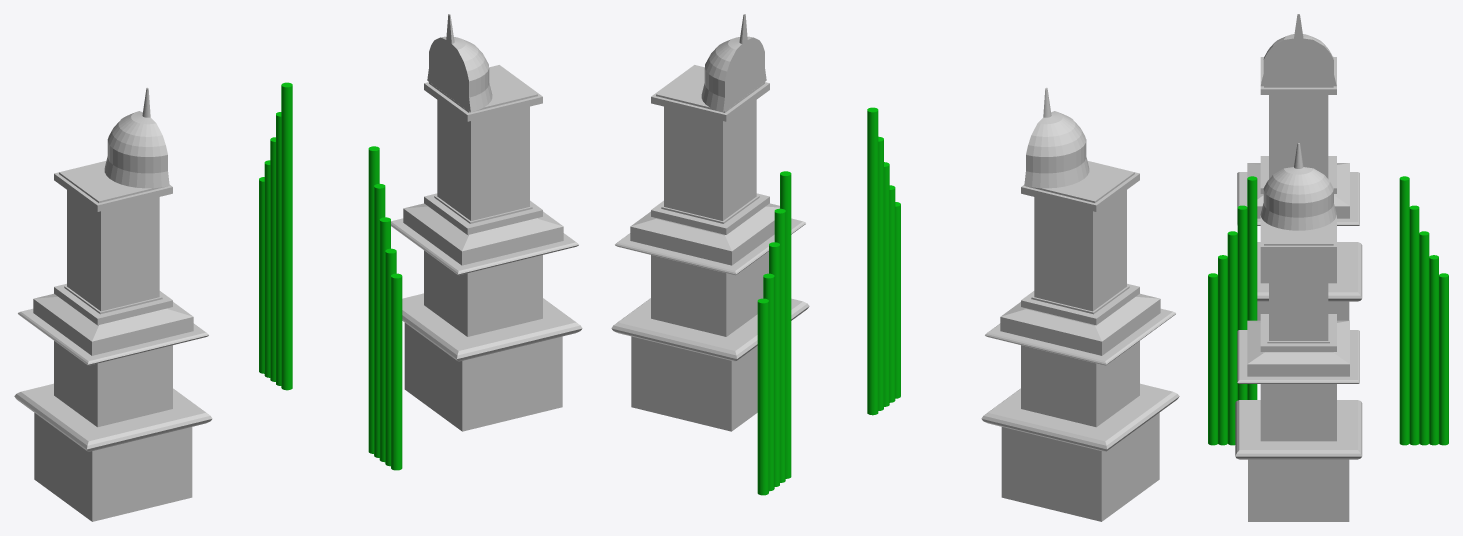
The model's file is gapura.fbx.
The picture shows the model from 3 angles, left to right: view 1: azimuth 30°, elevation 25°; view 2: azimuth 150°, elevation 25°; view 3: azimuth 270°, elevation 25°; orthographic projection. The views are drawn at different scales.
Parts seen in each view (by area): view 1: Cube.003, Cube.015, Cylinder.002, Cylinder.000; view 2: Cube.003, Cube.015, Cylinder.000, Cylinder.002; view 3: Cube.015, Cube.003, Cylinder.000, Cylinder.002.
Boxes of the visible parts, bbox=[...] form: Cube.003: bbox=[14, 87, 212, 521]; Cube.015: bbox=[391, 14, 582, 431]; Cylinder.002: bbox=[368, 146, 402, 470]; Cylinder.000: bbox=[259, 82, 292, 390]; Cube.003: bbox=[981, 87, 1179, 521]; Cube.015: bbox=[611, 14, 809, 431]; Cylinder.000: bbox=[757, 171, 791, 495]; Cylinder.002: bbox=[867, 107, 900, 415]; Cube.015: bbox=[1235, 143, 1362, 521]; Cube.003: bbox=[1237, 14, 1362, 320]; Cylinder.000: bbox=[1399, 176, 1448, 445]; Cylinder.002: bbox=[1208, 176, 1257, 445].
Size of the model in its own units: 844 by 639 by 406.
